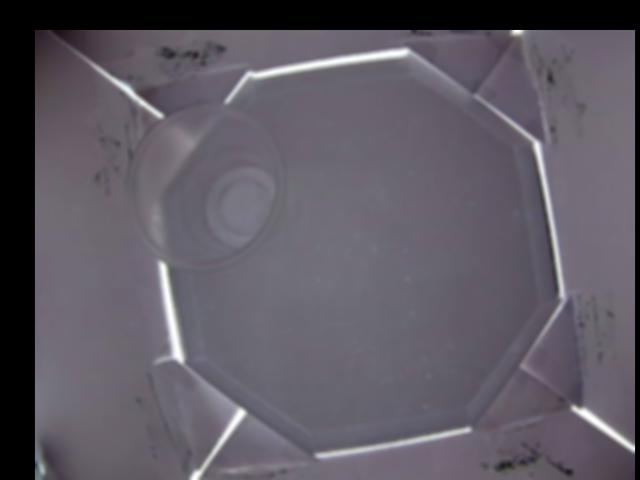Cup: (125, 100, 286, 270)
